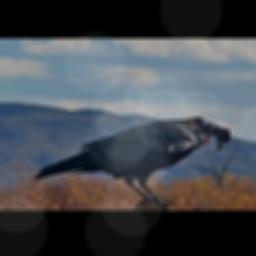Crow: (30, 115, 231, 208)
